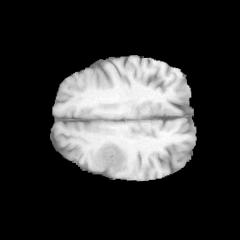glioma: (93, 141, 127, 172)
